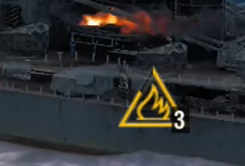3fire: (115, 93, 189, 133)
